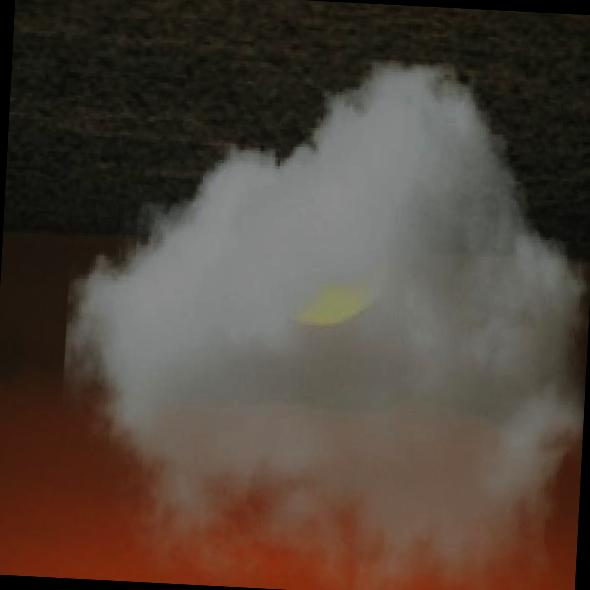smoke: (53, 43, 590, 590)
